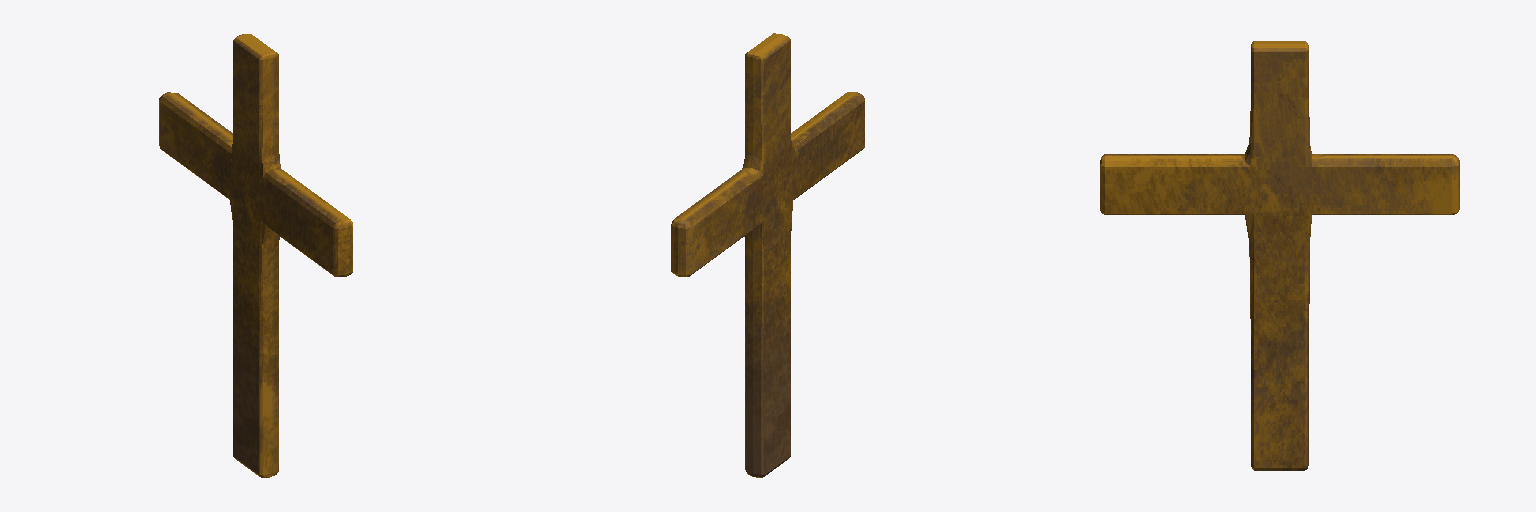
3 renders of one model, left to right at view 1: azimuth 30°, elevation 25°; view 2: azimuth 150°, elevation 25°; view 3: azimuth 270°, elevation 25°, orthographic.
Parts seen in each view (by area): view 1: pCube1; view 2: pCube1; view 3: pCube1.
Boxes of the visible parts, x1=… form: pCube1: x1=159, y1=34, x2=352, y2=477; pCube1: x1=671, y1=33, x2=864, y2=477; pCube1: x1=1100, y1=41, x2=1459, y2=470.
Bounding box in the file's own units: 0.6378 × 12.85 × 9.89.
Materials: 1 (1 with a texture image).